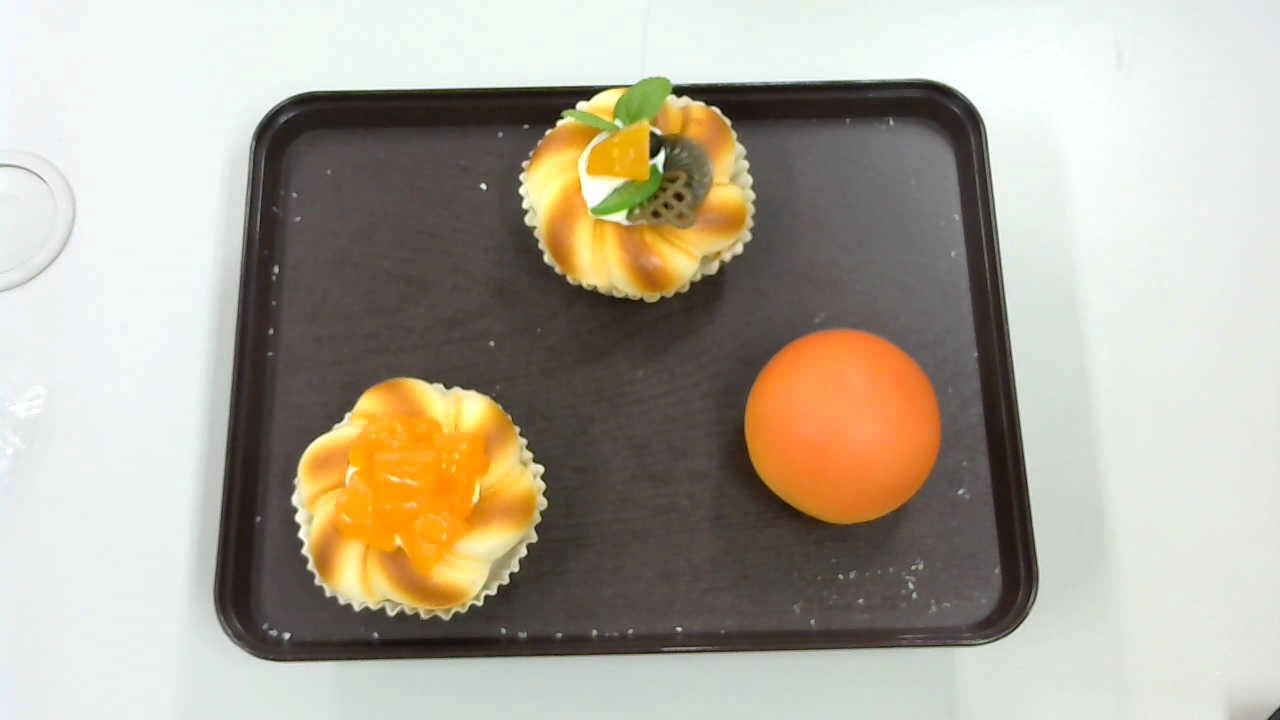bun: (744, 327, 940, 525)
fruit tart: (519, 77, 757, 302)
mango tart: (292, 376, 548, 623)
